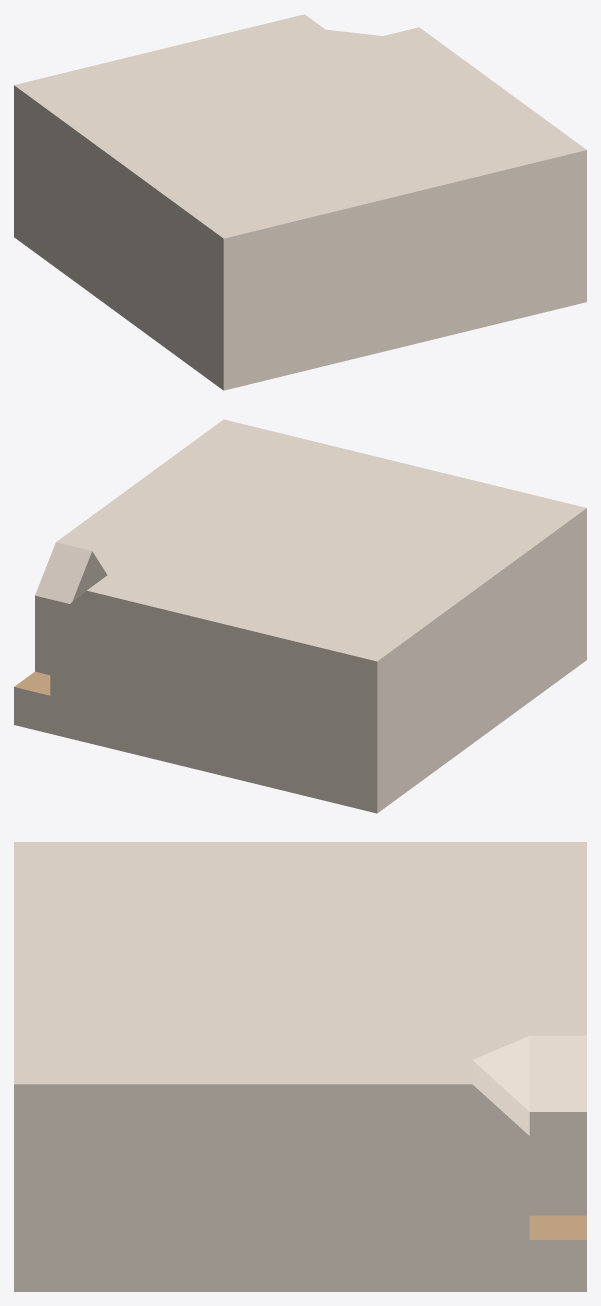
Rendered from Prop_Floor_Grooved_End.obj.
The picture shows the model from 3 angles, top to bottom: view 1: azimuth 30°, elevation 25°; view 2: azimuth 150°, elevation 25°; view 3: azimuth 270°, elevation 25°; orthographic projection. The views are drawn at different scales.
Visible parts, largest first — view 1: object1; view 2: object1; view 3: object1.
Part boxes in pixels (left/top/right/bottom): object1: left=14, top=14, right=586, bottom=390; object1: left=14, top=419, right=586, bottom=813; object1: left=14, top=842, right=586, bottom=1291.
Bounding box in the file's own units: 0.5 × 0.2 × 0.5.
